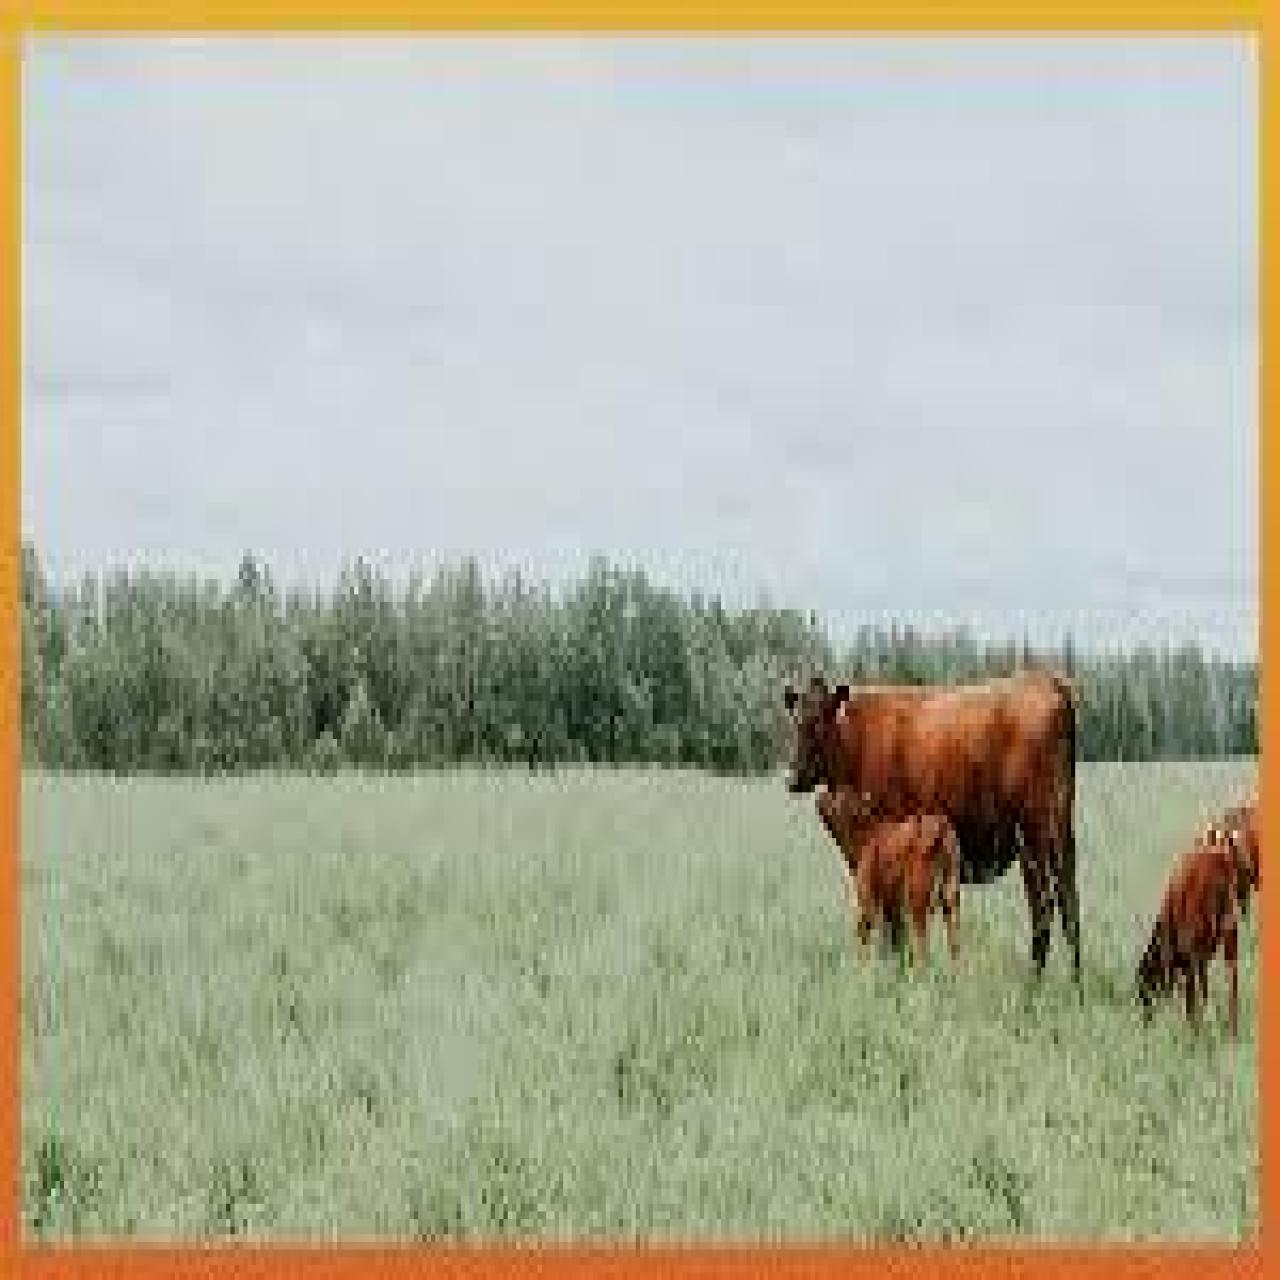cow: (783, 667, 1082, 994), (849, 808, 964, 982), (1136, 850, 1241, 1040)
